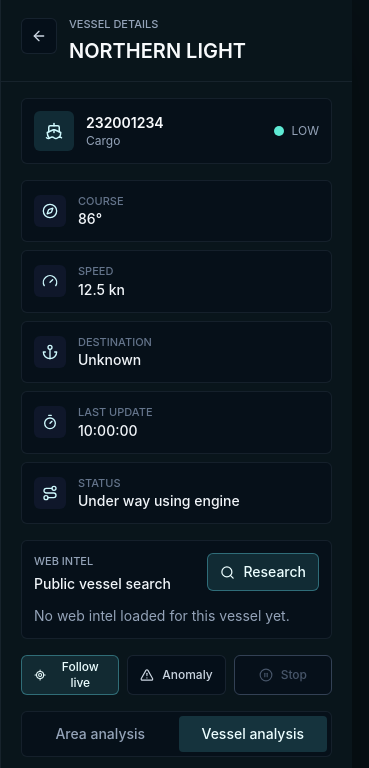
VesselDrawer › keeps area analysis available after a vessel is selected
Check: the button "Vessel analysis" is shown, box [178, 716, 327, 752]
Click the button "Area analysis" at (100, 734), box [26, 716, 174, 752]
(page scrolled)
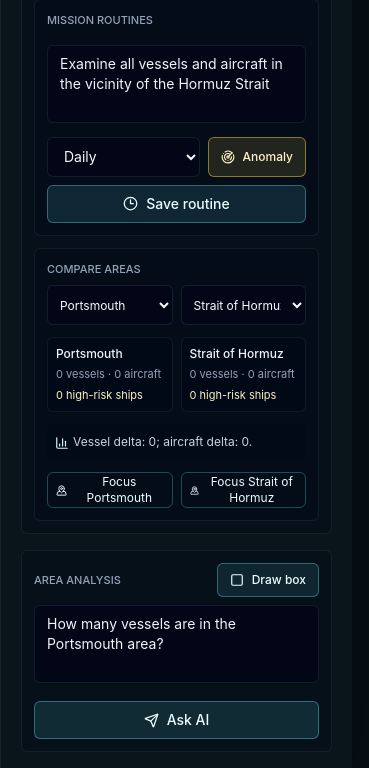
Check: the button "Draw box" is shown, box [217, 563, 319, 597]
